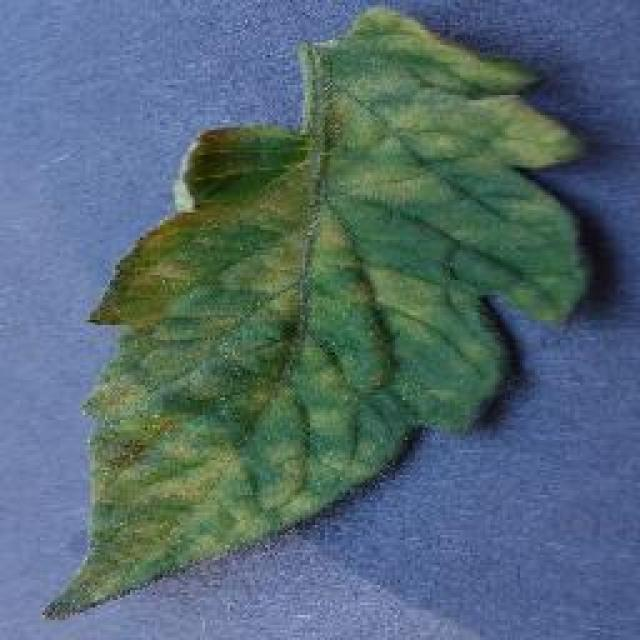Tomato___Leaf_Mold: (45, 10, 585, 612)
